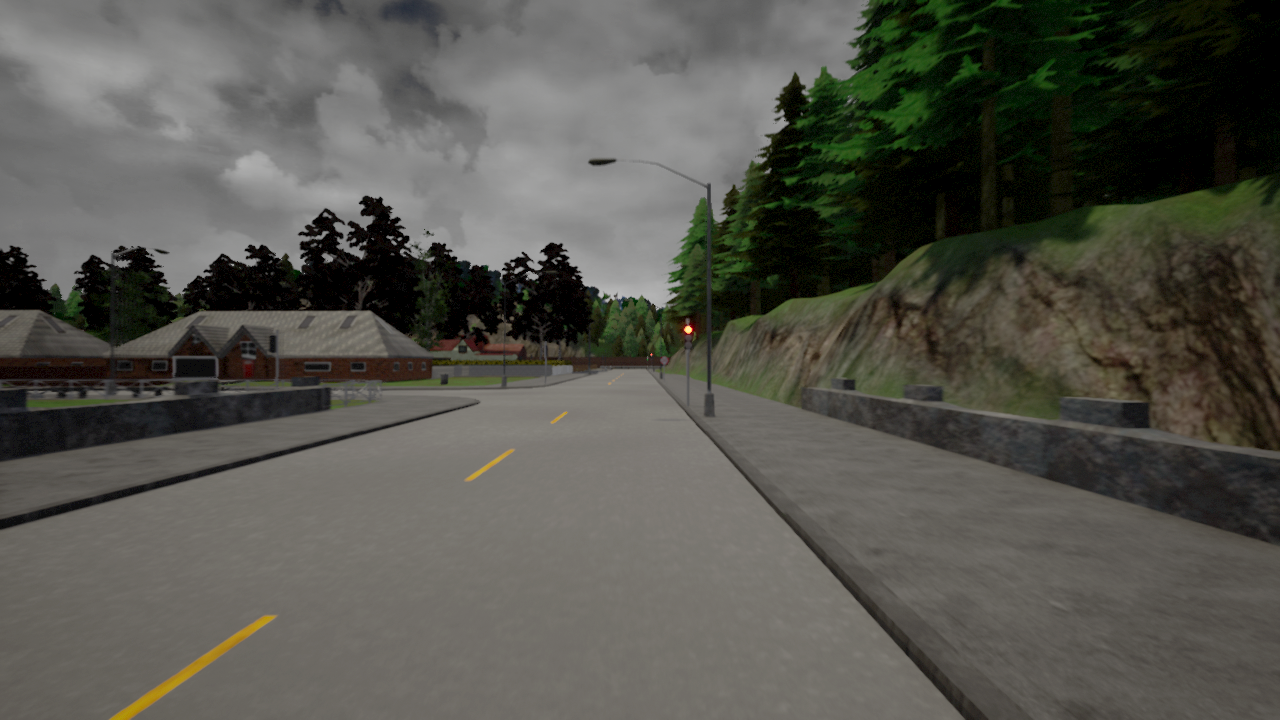red: (682, 325, 692, 350)
